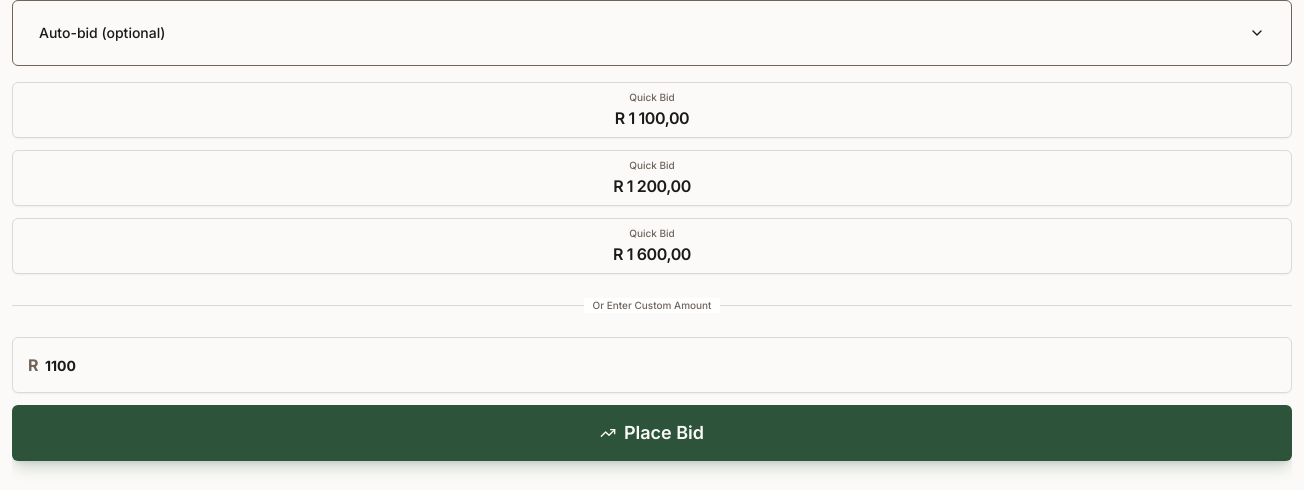
Test case: BidForm › handles empty manual amount input gracefully
The width and height of the screenshot is (1304, 490).
Step 1. Clear the number field with placeholder "Enter amount" → (652, 365), box top-left (12, 337), bottom-right (1292, 393)
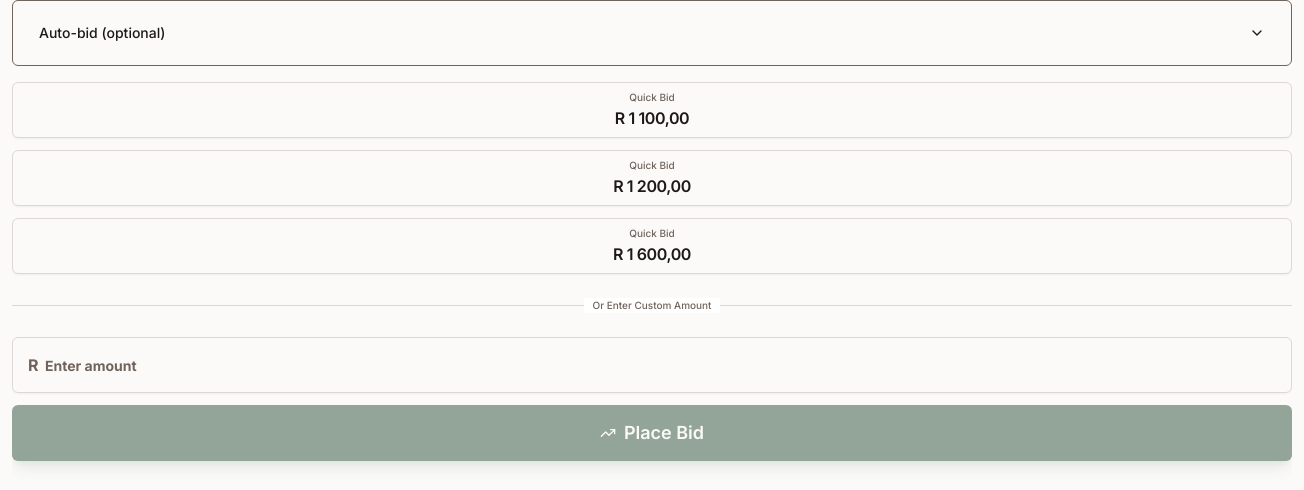
Now the button "Place Bid" is disabled, box top-left (12, 405), bottom-right (1292, 461)
